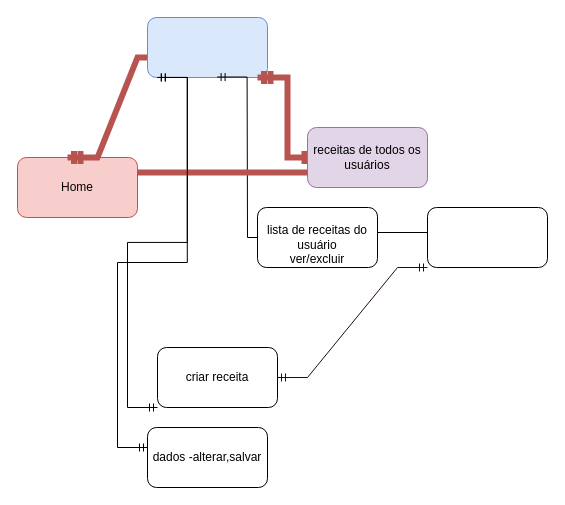
Image size: 565x505. Some labels were removed from this diagram. Here are the shapes that lost their labels. From the top down, the centre of each, then its label:
the point at 207,47: Login
the point at 487,237: pagina da receita especifa editar,salvar,excluir
